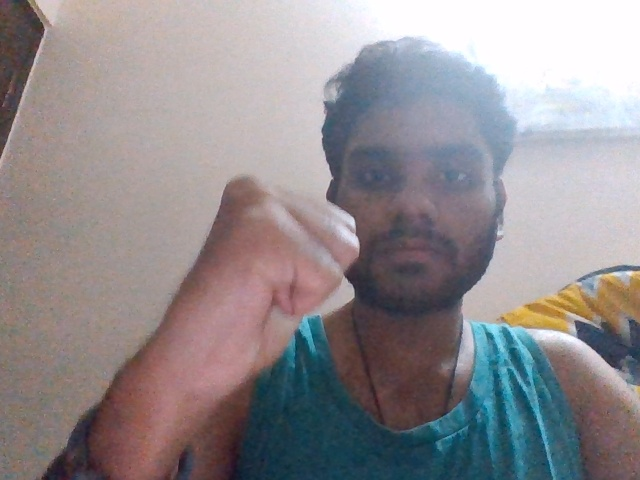yes: (137, 170, 367, 417)
